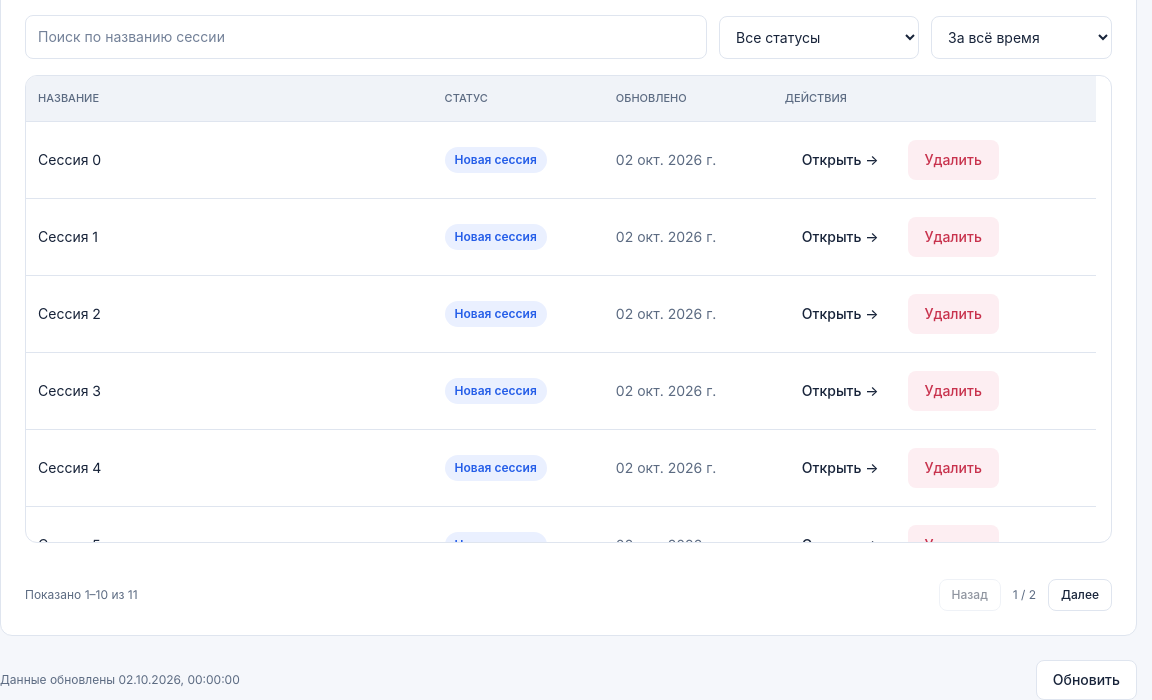
Test: session deletion › returns to the previous page when the last row is deleted
This screenshot has width=1152, height=700.
(page scrolled)
expect the text "Сессия 0" is shown: met, box x1=26 y1=121 x2=433 y2=198
Click the button "Далее": (1080,595) x1=1048 y1=579 x2=1112 y2=611
(page scrolled)
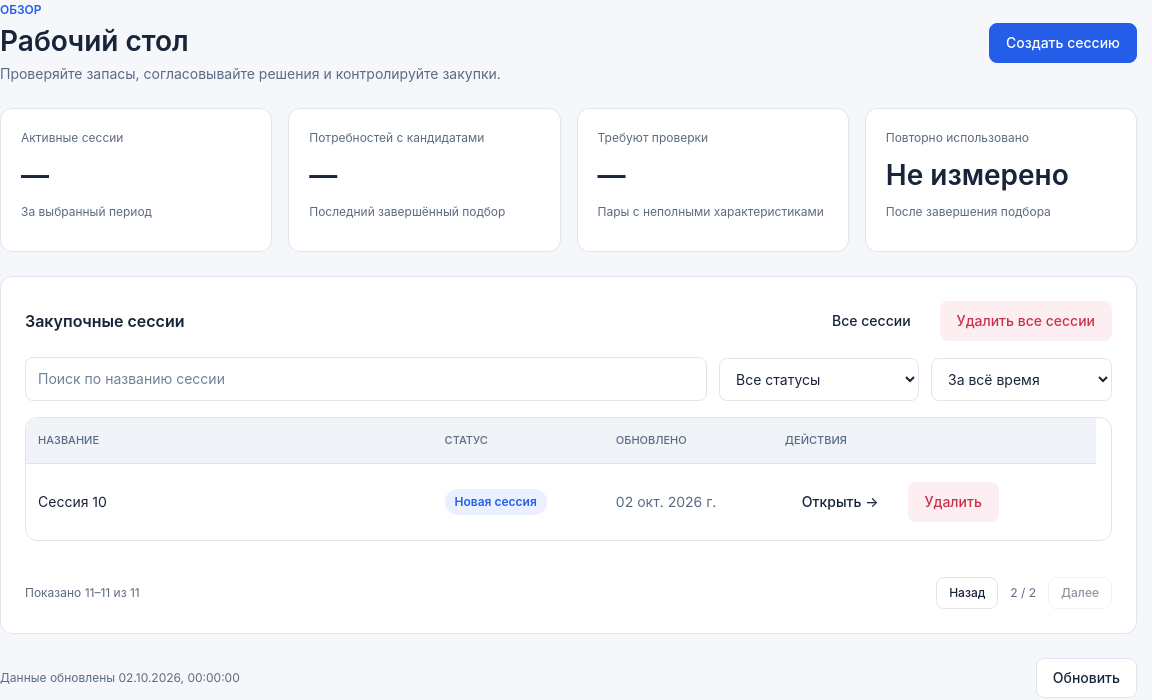
Click the button with aria-label "Удалить сессию «Сессия 10»": (953,502) x1=908 y1=482 x2=999 y2=522
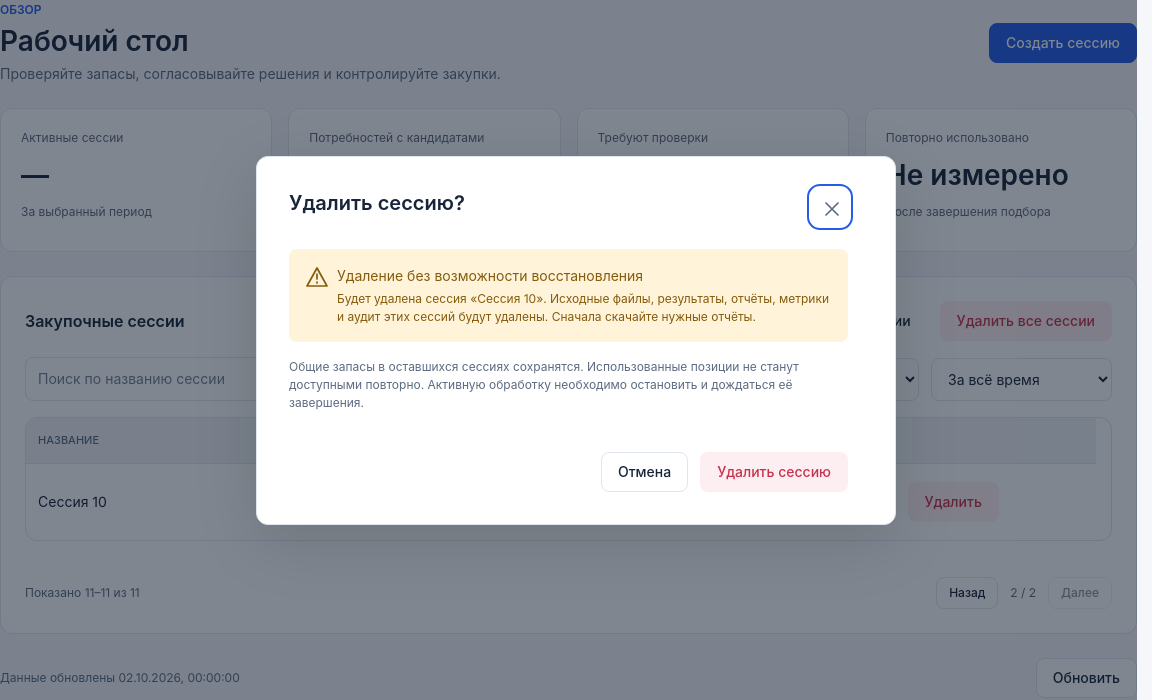
Click the button "Удалить сессию": (774,472) x1=700 y1=452 x2=848 y2=492
(page scrolled)
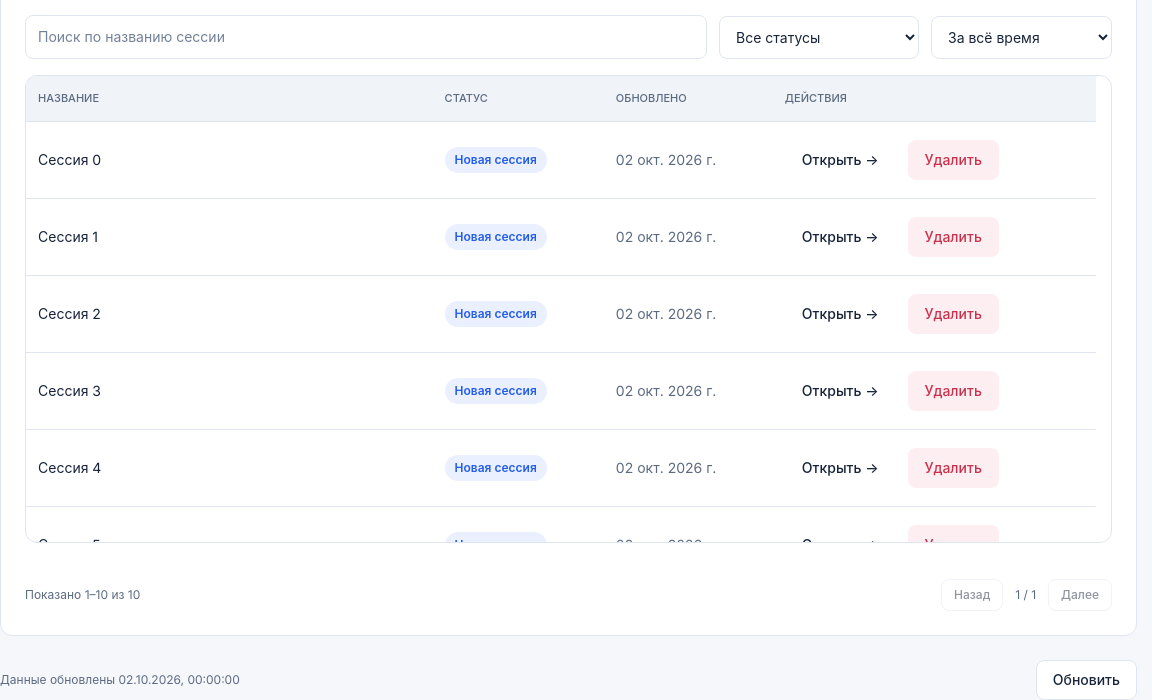
expect the text "Сессия 0" is shown: met, box x1=26 y1=121 x2=433 y2=198
expect the text "Сессия 10" is gone: met
expect the text "1 / 1" is shown: met, box x1=1015 y1=586 x2=1036 y2=604
